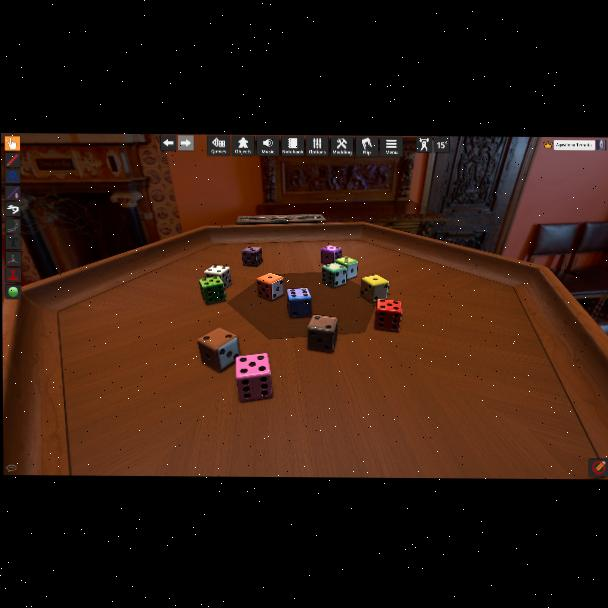d6: (197, 326, 240, 371), (235, 353, 272, 402), (307, 316, 336, 354), (375, 299, 402, 332), (256, 272, 284, 302), (360, 275, 388, 304), (199, 277, 226, 306), (286, 288, 311, 318), (203, 265, 229, 290), (322, 263, 346, 290), (335, 256, 359, 281), (242, 246, 262, 267), (321, 245, 342, 264)
